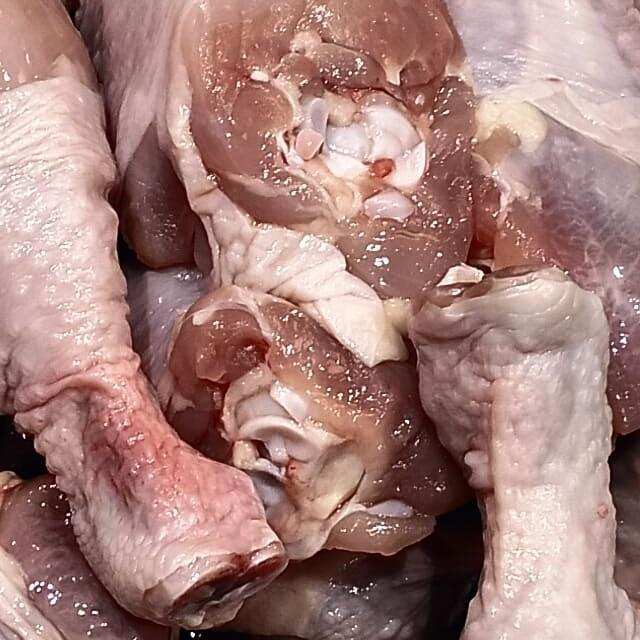chicken: (0, 0, 315, 636), (382, 228, 640, 640)
